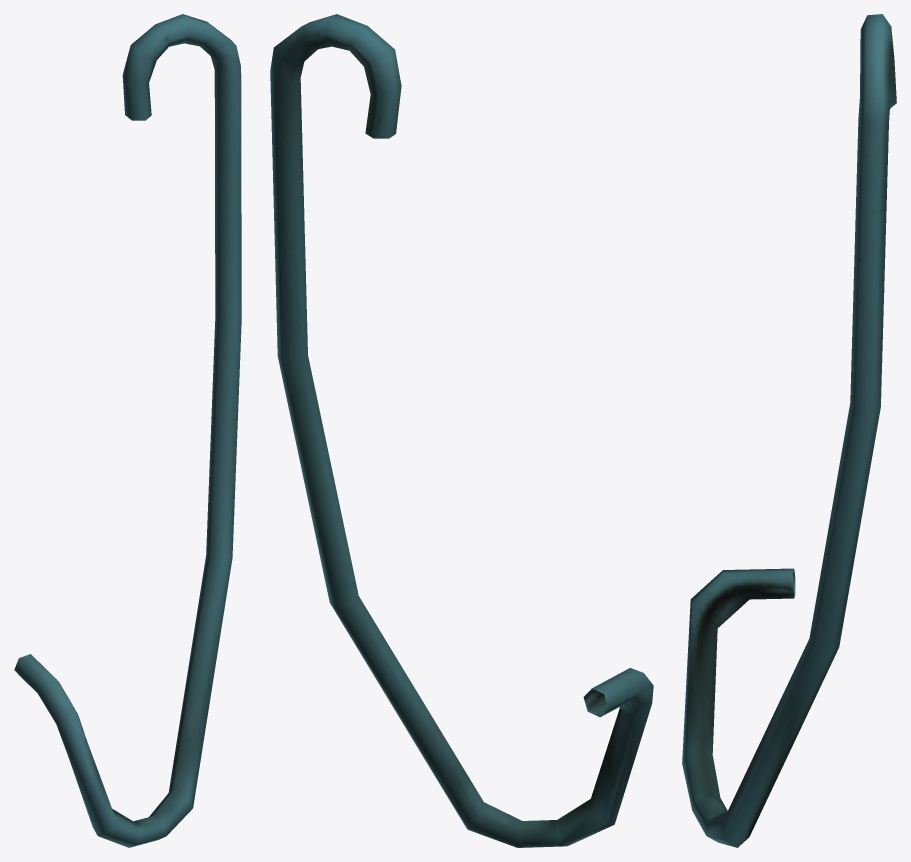
Rendered from multitool_trolley_ark_room_cable1.DAE.
The picture shows the model from 3 angles, left to right: view 1: azimuth 30°, elevation 25°; view 2: azimuth 150°, elevation 25°; view 3: azimuth 270°, elevation 25°; orthographic projection. The views are drawn at different scales.
Parts seen in each view (by area): view 1: multitool_trolley_ark_room_cable1; view 2: multitool_trolley_ark_room_cable1; view 3: multitool_trolley_ark_room_cable1.
Part boxes in pixels (left/top/right/bottom): multitool_trolley_ark_room_cable1: left=14, top=14, right=241, bottom=847; multitool_trolley_ark_room_cable1: left=270, top=14, right=653, bottom=847; multitool_trolley_ark_room_cable1: left=682, top=14, right=896, bottom=847.
Bounding box in the file's own units: 0.6056 × 1.66 × 0.3719.
